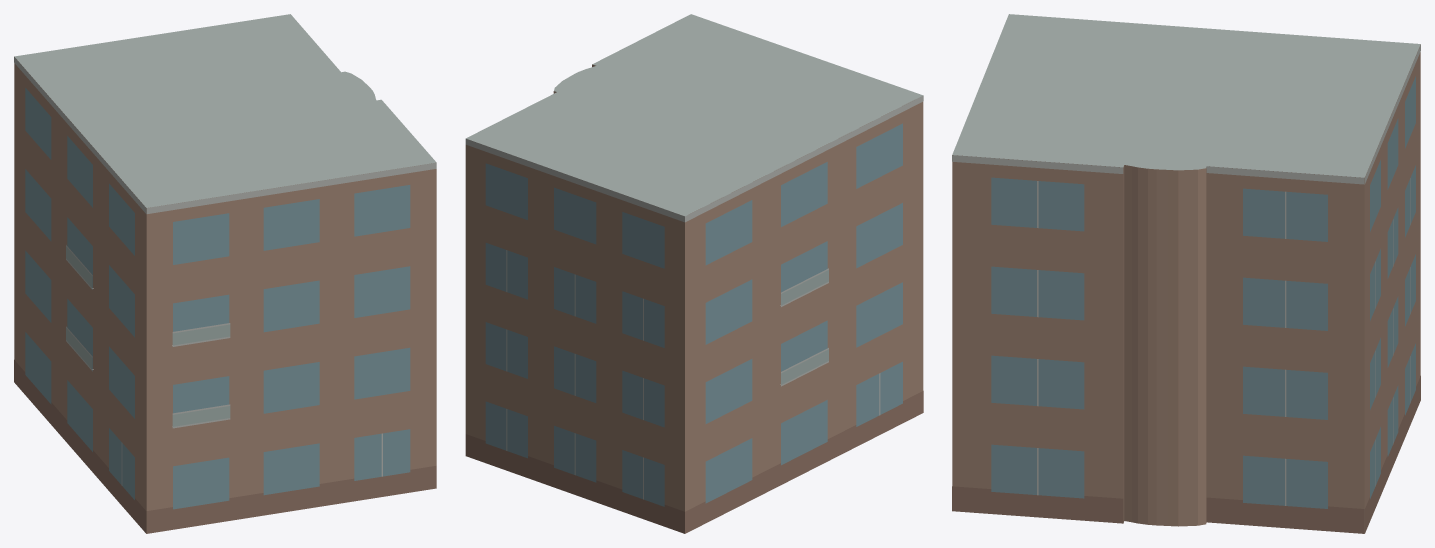
Rendered from survey-upis-32910872.glb.
3 renders of one model, left to right at view 1: azimuth 30°, elevation 25°; view 2: azimuth 150°, elevation 25°; view 3: azimuth 270°, elevation 25°, orthographic. The views are drawn at different scales.
Parts seen in each view (by area): view 1: survey-upis-32910872.tmp; view 2: survey-upis-32910872.tmp; view 3: survey-upis-32910872.tmp.
Boxes of the visible parts, <box> form: survey-upis-32910872.tmp: <box>14,14,436,533</box>; survey-upis-32910872.tmp: <box>465,14,923,533</box>; survey-upis-32910872.tmp: <box>952,14,1420,533</box>.
Size of the model in its own units: 12.63 by 12.8 by 15.28.
